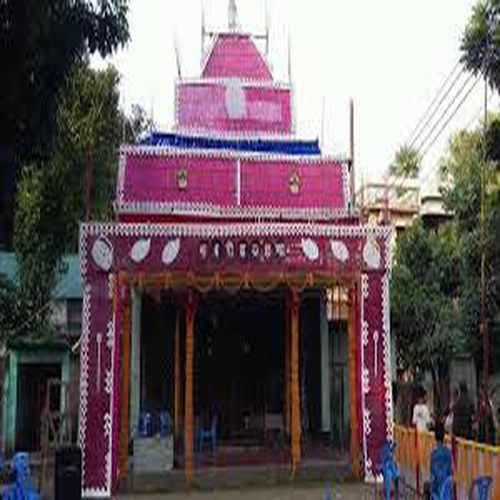Temple: (55, 14, 412, 475)
